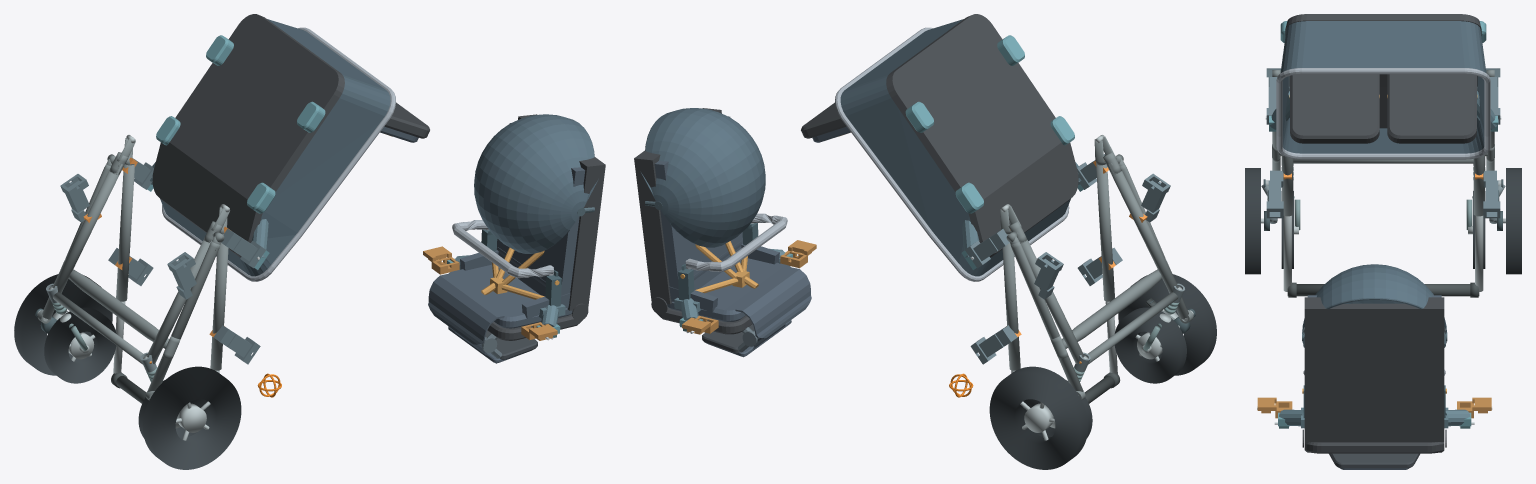
Rendered from D30_w650_state3_wheel_M.glb.
The picture shows the model from 3 angles, left to right: view 1: azimuth 30°, elevation 25°; view 2: azimuth 150°, elevation 25°; view 3: azimuth 270°, elevation 25°; orthographic projection.
Parts seen in each view (by area): view 1: D30_Lower, D30_Upper, RL_tire.011, FR_tire.011, RR_tire.011, main_upper_1.012, V46_rearbar.011, main_lower_1.012, V46_rear_leg_-1.011, main_upper_-1.012, main_lower_-1.012, front_fixed_round_tube.011 (+6 smaller); view 2: D30_Lower, D30_Upper, RR_tire.011, FL_tire.011, RL_tire.011, main_upper_-1.012, main_lower_-1.012, V46_rearbar.011, V46_rear_leg_1.011, main_upper_1.012, main_lower_1.012, front_fixed_round_tube.011 (+8 smaller); view 3: D30_Lower, D30_Upper, RL_tire.011, RR_tire.011, D30_Upper_Mount_H, front_fixed_round_tube.011, round_handle.013, Universal_Cabin_Receiver_H_1, Universal_Cabin_Receiver_H_-1, handle_slider_1.013, handle_slider_-1.013, main_upper_1.012 (+6 smaller).
Boxes of the visible parts, bbox=[...] form: D30_Lower: bbox=[152, 14, 429, 281]; D30_Upper: bbox=[428, 114, 605, 363]; RL_tire.011: bbox=[142, 366, 241, 469]; FR_tire.011: bbox=[44, 307, 116, 383]; RR_tire.011: bbox=[14, 274, 112, 375]; main_upper_1.012: bbox=[116, 164, 134, 301]; V46_rearbar.011: bbox=[68, 269, 168, 348]; main_lower_1.012: bbox=[52, 164, 122, 293]; V46_rear_leg_-1.011: bbox=[147, 241, 220, 391]; main_upper_-1.012: bbox=[210, 234, 228, 370]; main_lower_-1.012: bbox=[146, 239, 212, 364]; front_fixed_round_tube.011: bbox=[53, 292, 142, 364]; D30_Lower: bbox=[801, 14, 1078, 281]; D30_Upper: bbox=[634, 108, 811, 357]; RR_tire.011: bbox=[989, 366, 1088, 469]; FL_tire.011: bbox=[1114, 307, 1186, 383]; RL_tire.011: bbox=[1118, 274, 1216, 375]; main_upper_-1.012: bbox=[1096, 164, 1114, 301]; main_lower_-1.012: bbox=[1108, 164, 1178, 293]; V46_rearbar.011: bbox=[1062, 269, 1162, 348]; V46_rear_leg_1.011: bbox=[1010, 241, 1083, 391]; main_upper_1.012: bbox=[1002, 234, 1020, 370]; main_lower_1.012: bbox=[1019, 240, 1084, 363]; front_fixed_round_tube.011: bbox=[1088, 292, 1178, 364]; D30_Lower: bbox=[1276, 14, 1490, 159]; D30_Upper: bbox=[1302, 264, 1447, 469]; RL_tire.011: bbox=[1245, 168, 1260, 274]; RR_tire.011: bbox=[1506, 168, 1521, 274]; D30_Upper_Mount_H: bbox=[1274, 407, 1474, 428]; front_fixed_round_tube.011: bbox=[1293, 159, 1473, 163]; round_handle.013: bbox=[1287, 284, 1479, 296]; Universal_Cabin_Receiver_H_1: bbox=[1483, 170, 1500, 218]; Universal_Cabin_Receiver_H_-1: bbox=[1266, 170, 1283, 218]; handle_slider_1.013: bbox=[1475, 215, 1483, 291]; handle_slider_-1.013: bbox=[1283, 215, 1291, 291]; main_upper_1.012: bbox=[1473, 155, 1484, 216].
Size of the model in its own units: 1.63 by 1.1 by 0.781.
